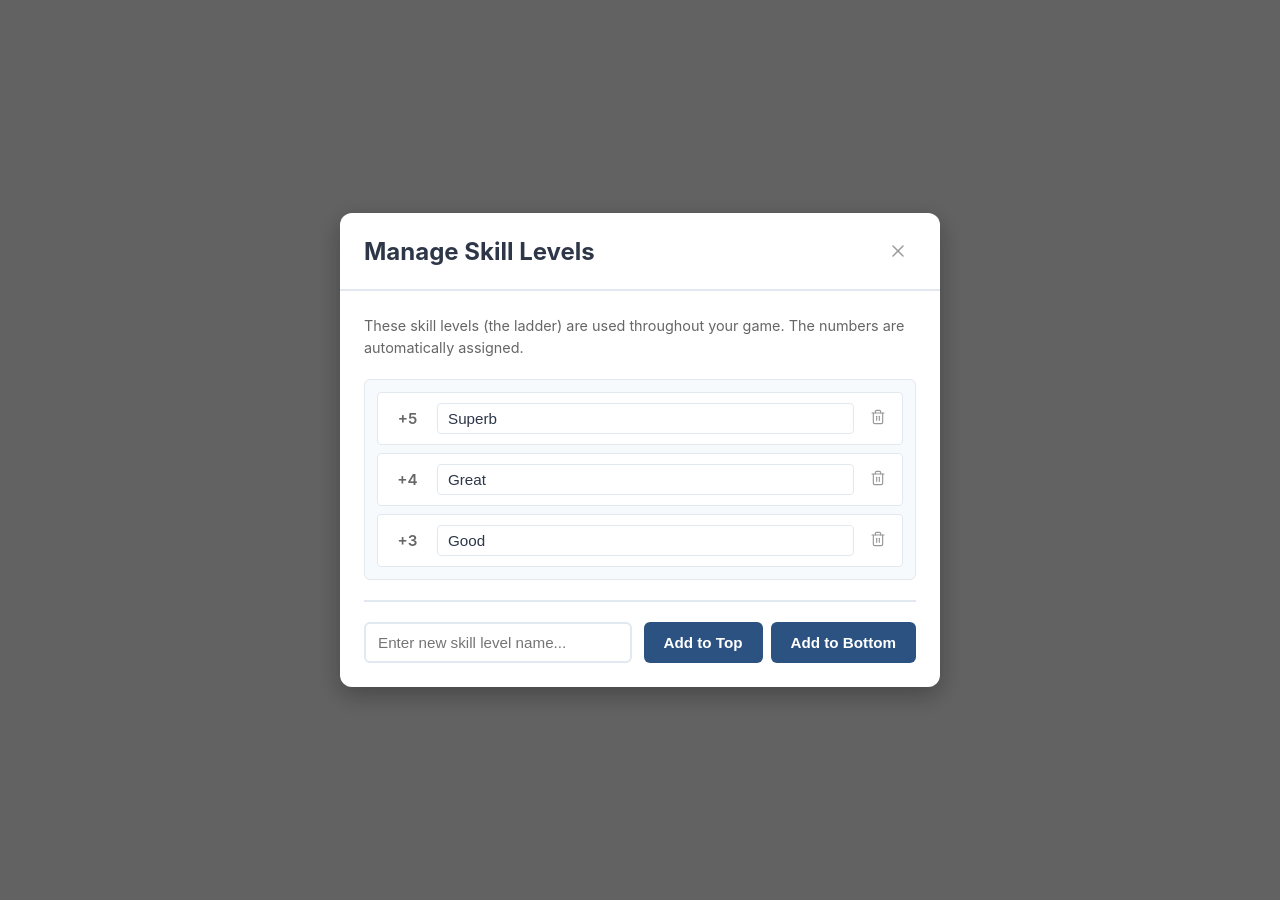
Test case: SkillLevelsAdminModal › should display confirmation message before deleting
Click the button titled "Delete skill level" at (878, 418), box [866,408,890,428]
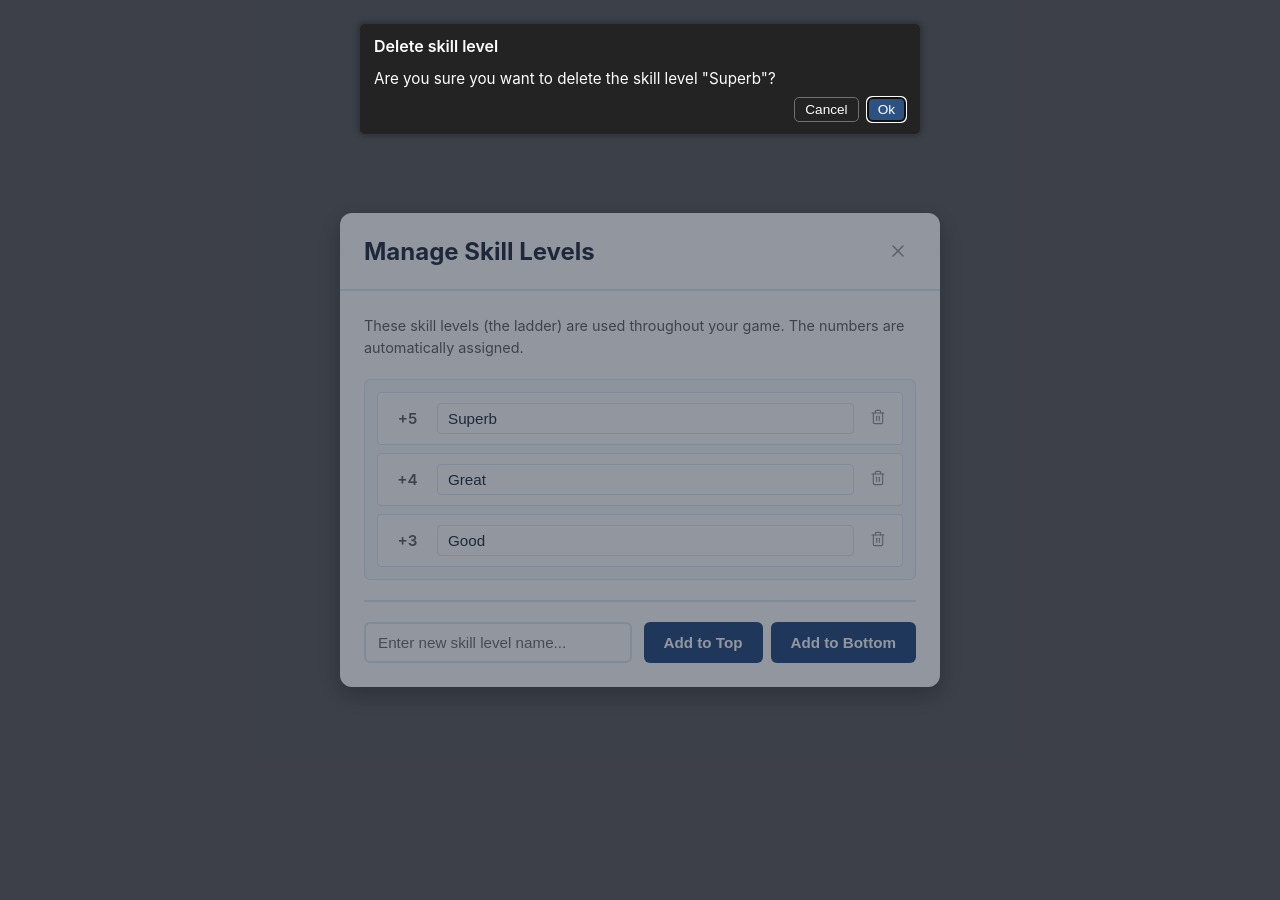
Expected: the text "Are you sure you want to delete the skill level \"Superb\"?" is shown, [374,69,776,88]
